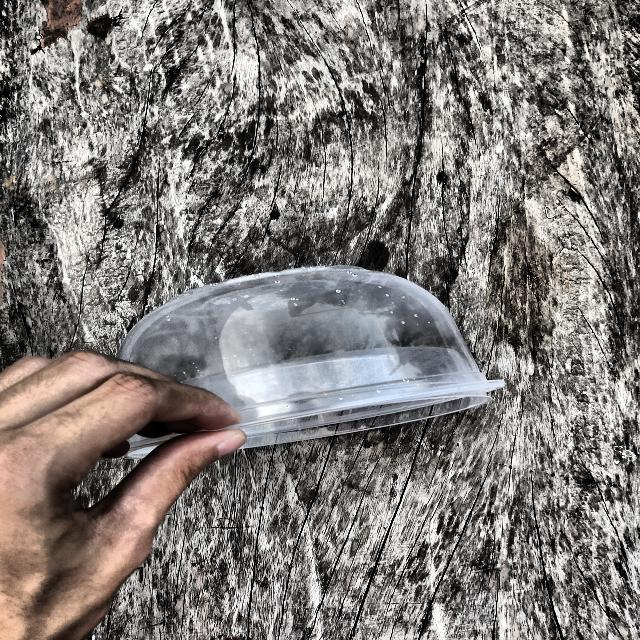plastic container: (62, 248, 510, 477)
